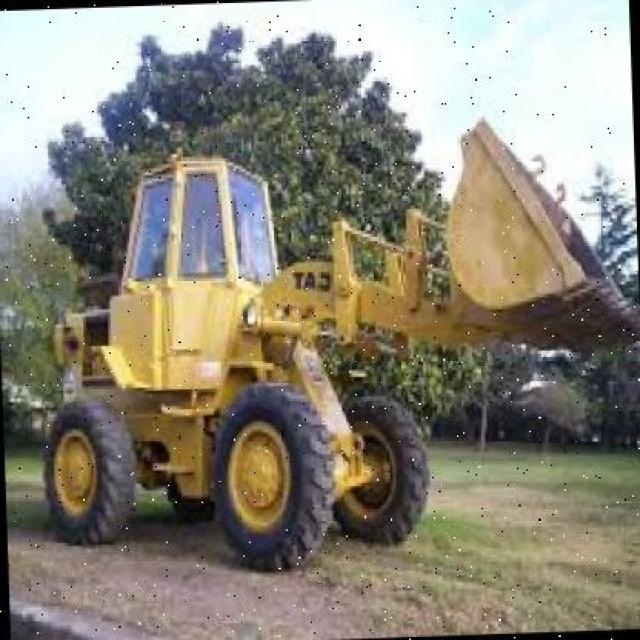buldozerpayloadergrader: (21, 84, 640, 580)
